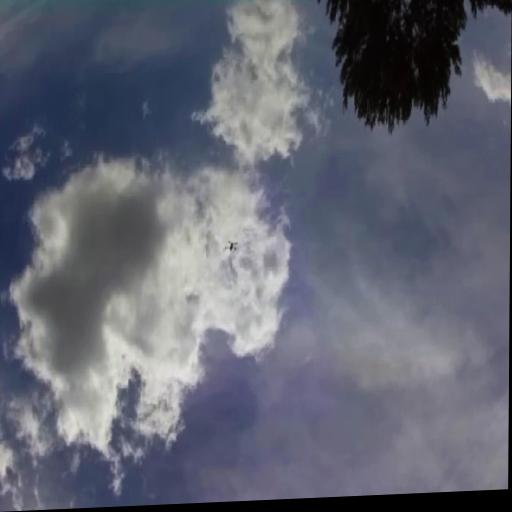drones: (223, 233, 243, 254)
